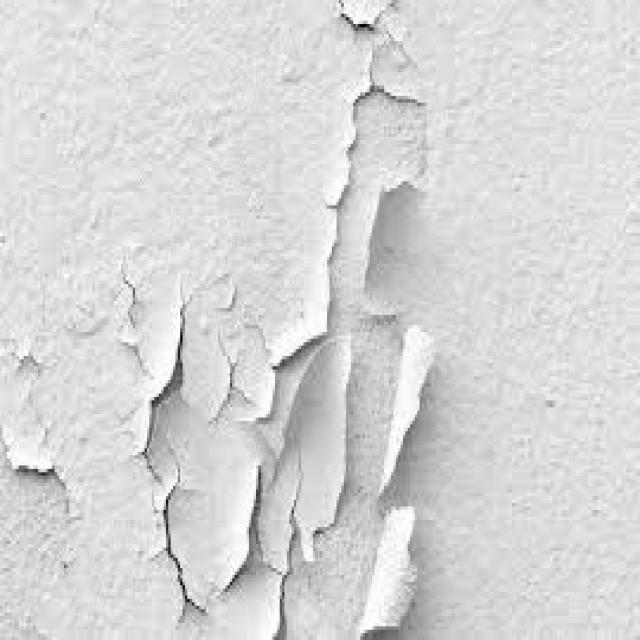peeling paint: (0, 0, 453, 640)
